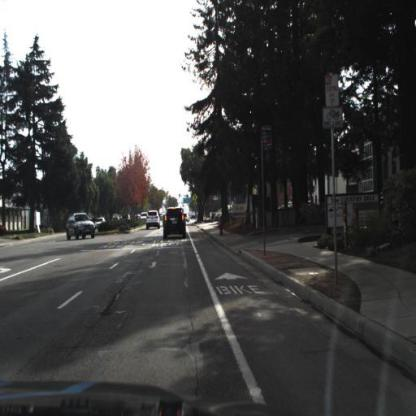car: (65, 211, 98, 240), (164, 206, 187, 241), (146, 211, 162, 232)
